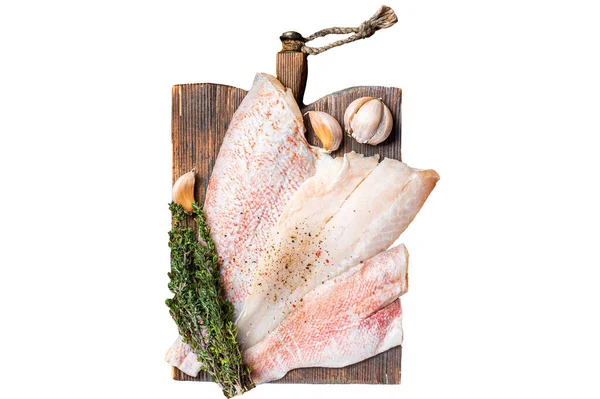bream-fish: (238, 155, 440, 344)
